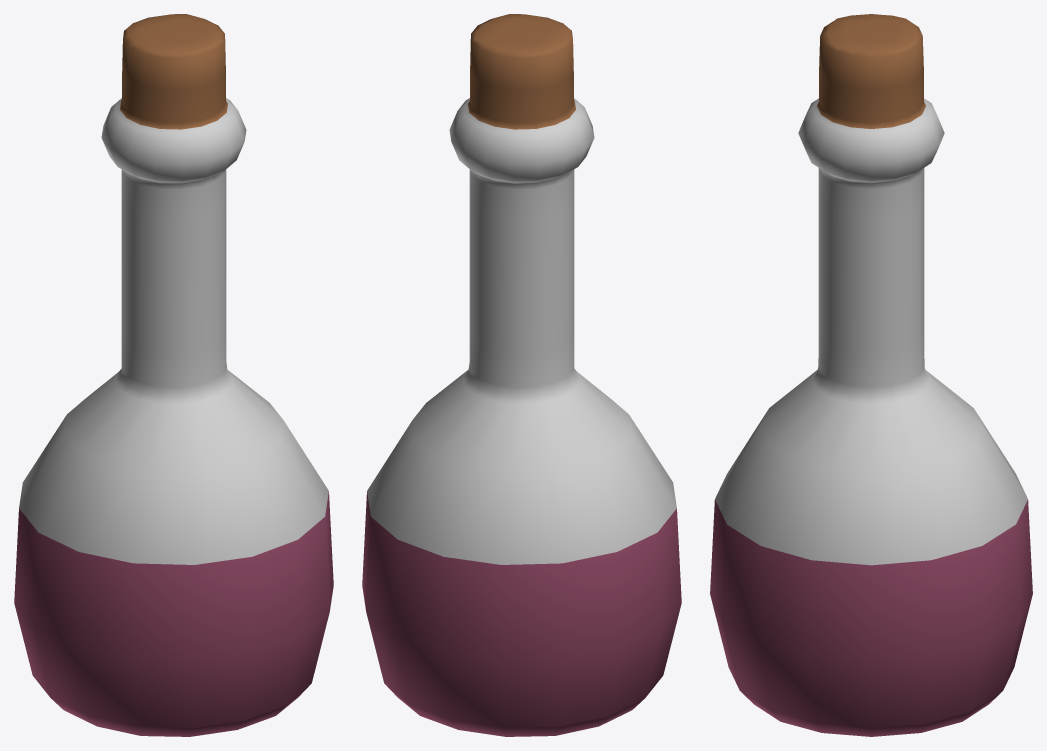
Rendered from Pocion_4.fbx.
3 views of the same model, side by side, from view 1: azimuth 30°, elevation 25°; view 2: azimuth 150°, elevation 25°; view 3: azimuth 270°, elevation 25° (orthographic).
Parts seen in each view (by area): view 1: Cube; view 2: Cube; view 3: Cube.
Part boxes in pixels (bbox=[...]): Cube: bbox=[14, 14, 333, 736]; Cube: bbox=[362, 14, 681, 736]; Cube: bbox=[710, 14, 1032, 736].
Size of the model in its own units: 138 by 306 by 138.
